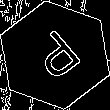P_SE: (23, 24, 87, 86)
